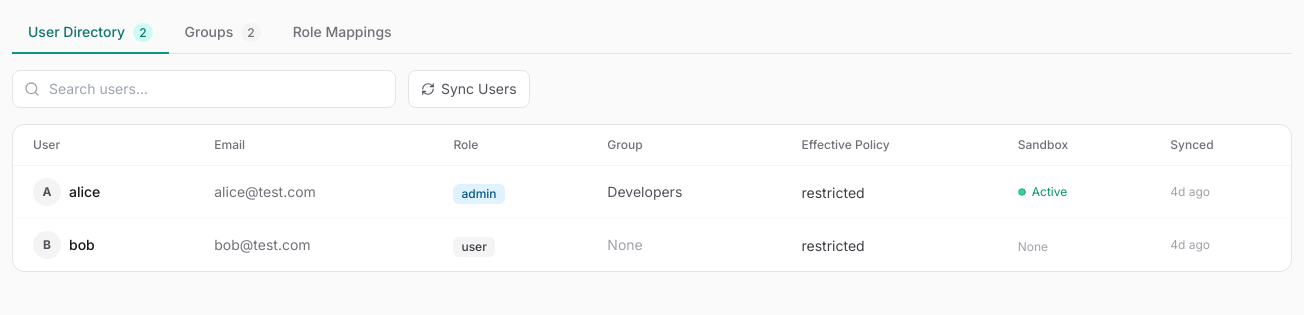
Test case: UsersGroups page › switches to Groups tab and shows group cards
This screenshot has width=1304, height=315.
Expected: the button "User Directory2" is shown, top-left (12, 12), bottom-right (168, 54)
Click the button "Groups2" at coordinates (223, 33), box top-left (168, 12), bottom-right (277, 54)
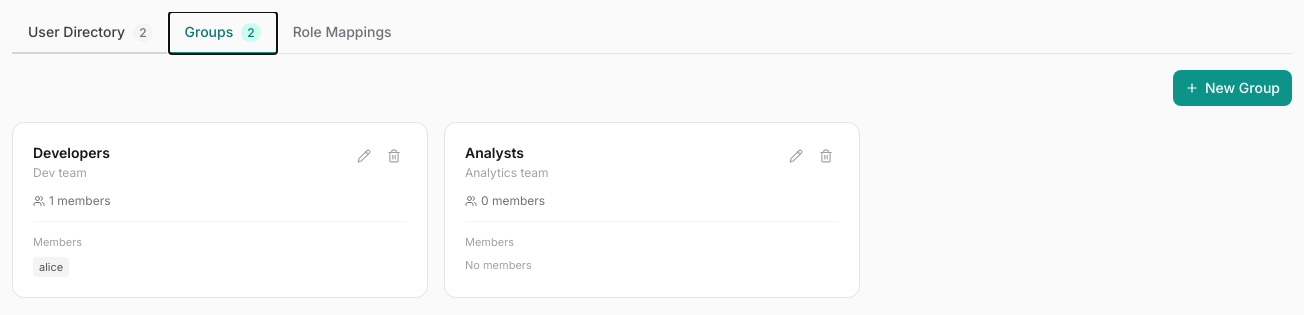
Expected: the heading "Developers" is shown, top-left (33, 143), bottom-right (110, 163)
Expected: the heading "Analysts" is shown, top-left (465, 144), bottom-right (524, 161)
